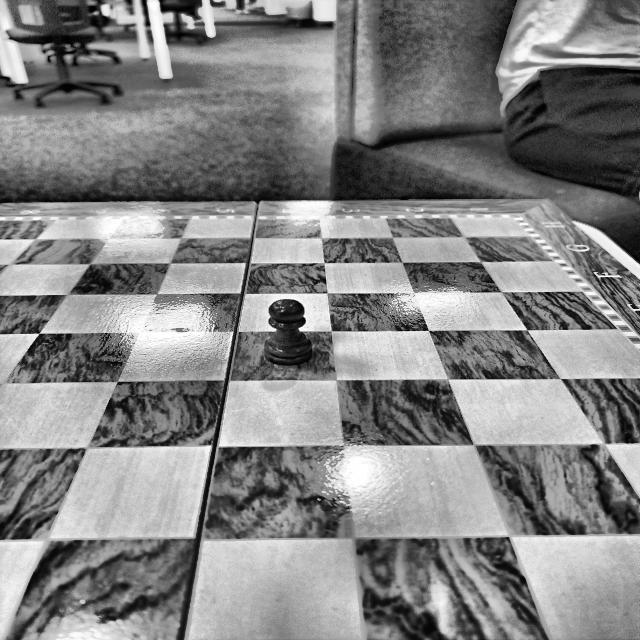black-pawn: (264, 299, 313, 365)
